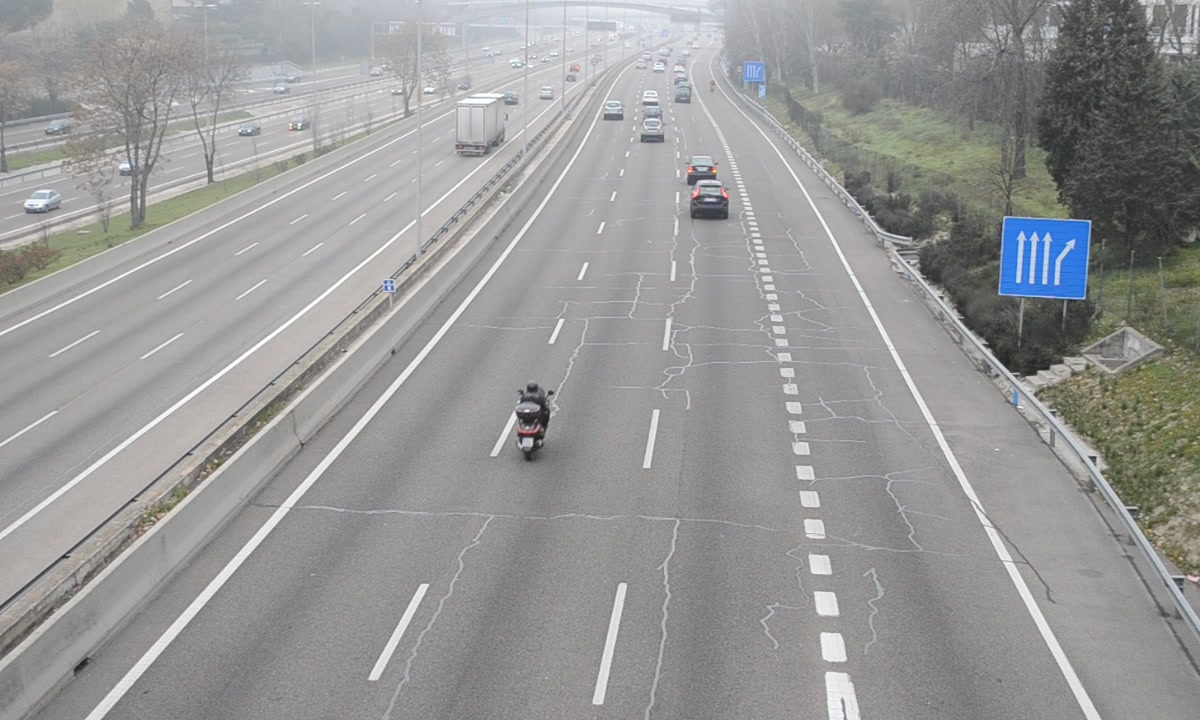car: (689, 180, 729, 217), (685, 155, 717, 183)
motorcycle: (515, 379, 552, 459)
